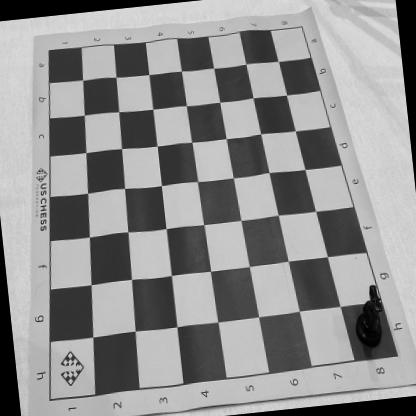knight: (350, 284, 384, 349)
